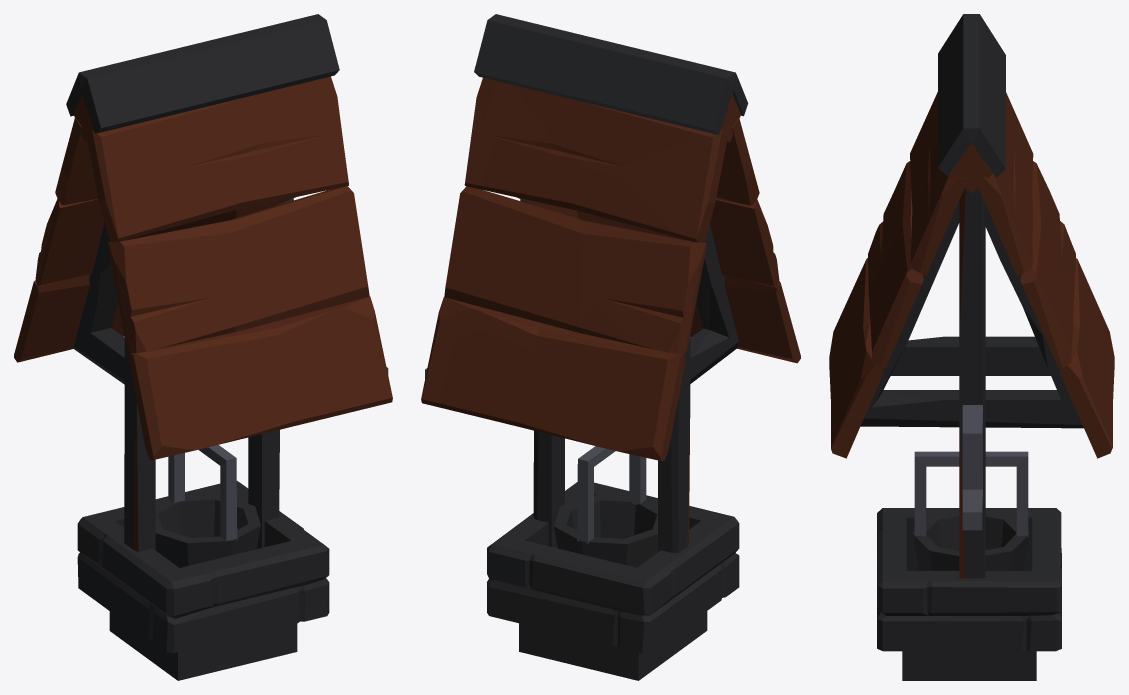
File: Well.fbx
The picture shows the model from 3 angles, left to right: view 1: azimuth 30°, elevation 25°; view 2: azimuth 150°, elevation 25°; view 3: azimuth 270°, elevation 25°; orthographic projection. The views are drawn at different scales.
Visible parts, largest first — view 1: Well; view 2: Well; view 3: Well.
Part boxes in pixels (x1,y1,x2,y2): Well: (14, 14, 392, 680); Well: (421, 14, 800, 680); Well: (829, 14, 1114, 680).
Bounding box in the file's own units: 35.56 × 66.67 × 29.66.
